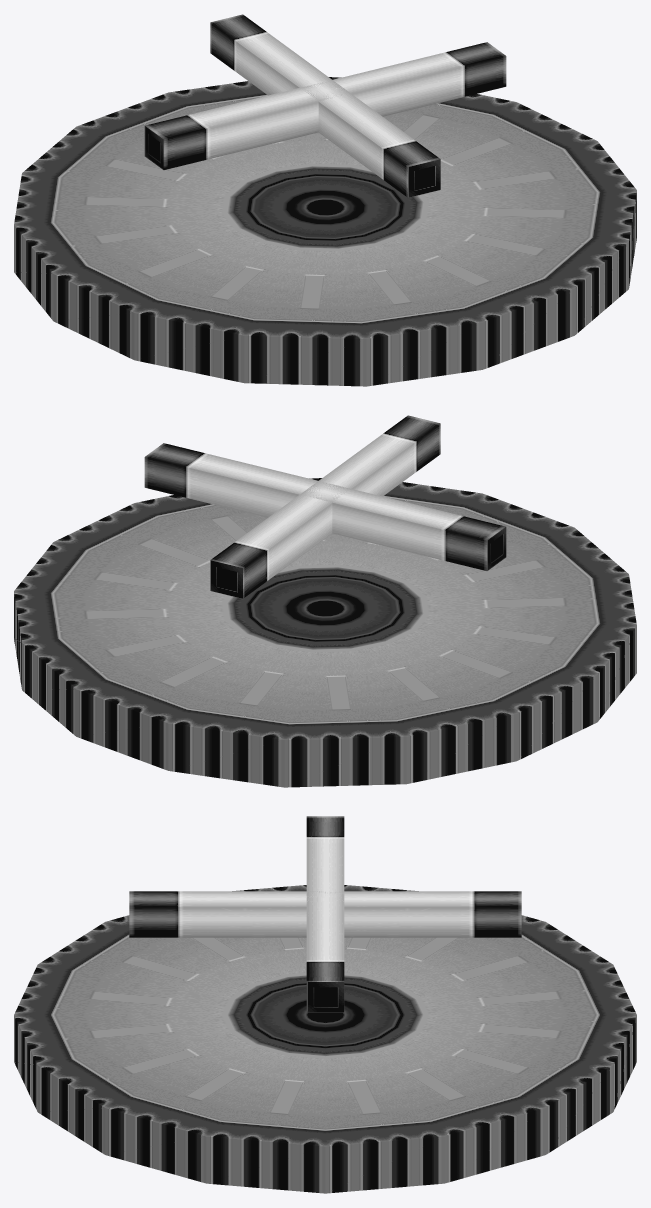
Rendered from test1_course-gear_black.glb.
3 renders of one model, top to bottom at view 1: azimuth 30°, elevation 25°; view 2: azimuth 150°, elevation 25°; view 3: azimuth 270°, elevation 25°, orthographic.
Parts seen in each view (by area): view 1: gear_black; view 2: gear_black; view 3: gear_black.
Boxes of the visible parts, x1,y1,x2,y2 form: gear_black: (14,14,636,386); gear_black: (14,415,636,787); gear_black: (14,816,636,1193).
Size of the model in its own units: 37.5 by 10.81 by 37.5.
Materials: 1 (1 with a texture image).
